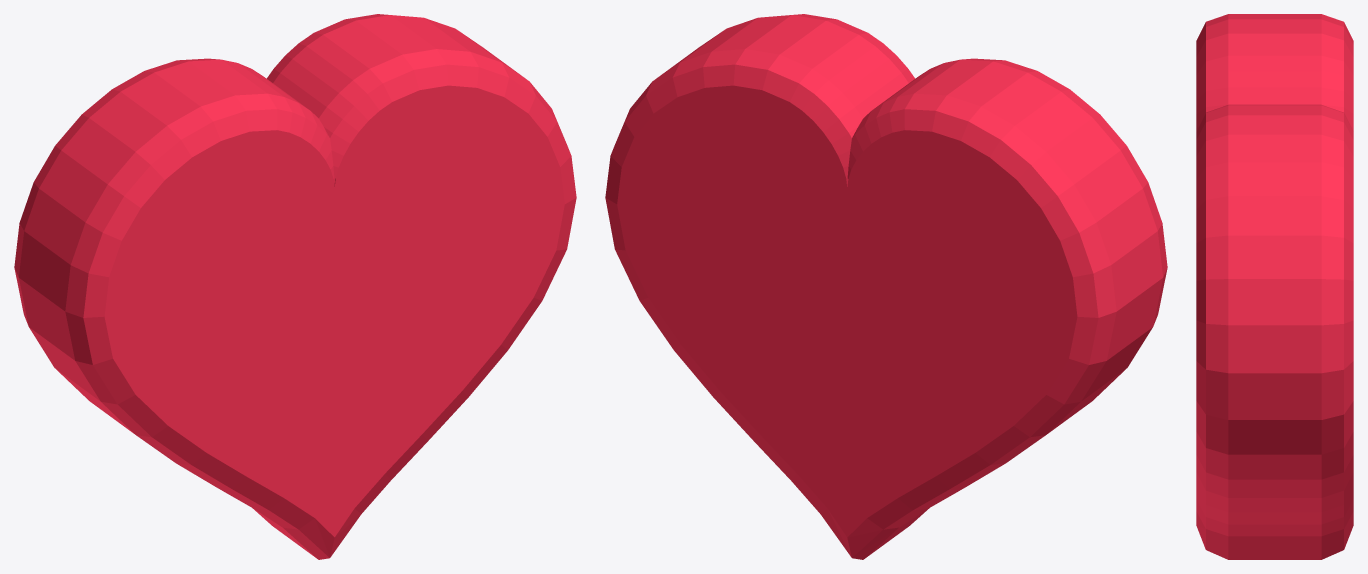
File: heart.glb
The picture shows the model from 3 angles, left to right: view 1: azimuth 30°, elevation 25°; view 2: azimuth 150°, elevation 25°; view 3: azimuth 270°, elevation 25°; orthographic projection.
Size of the model in its own units: 2.2 by 2.01 by 0.59.
